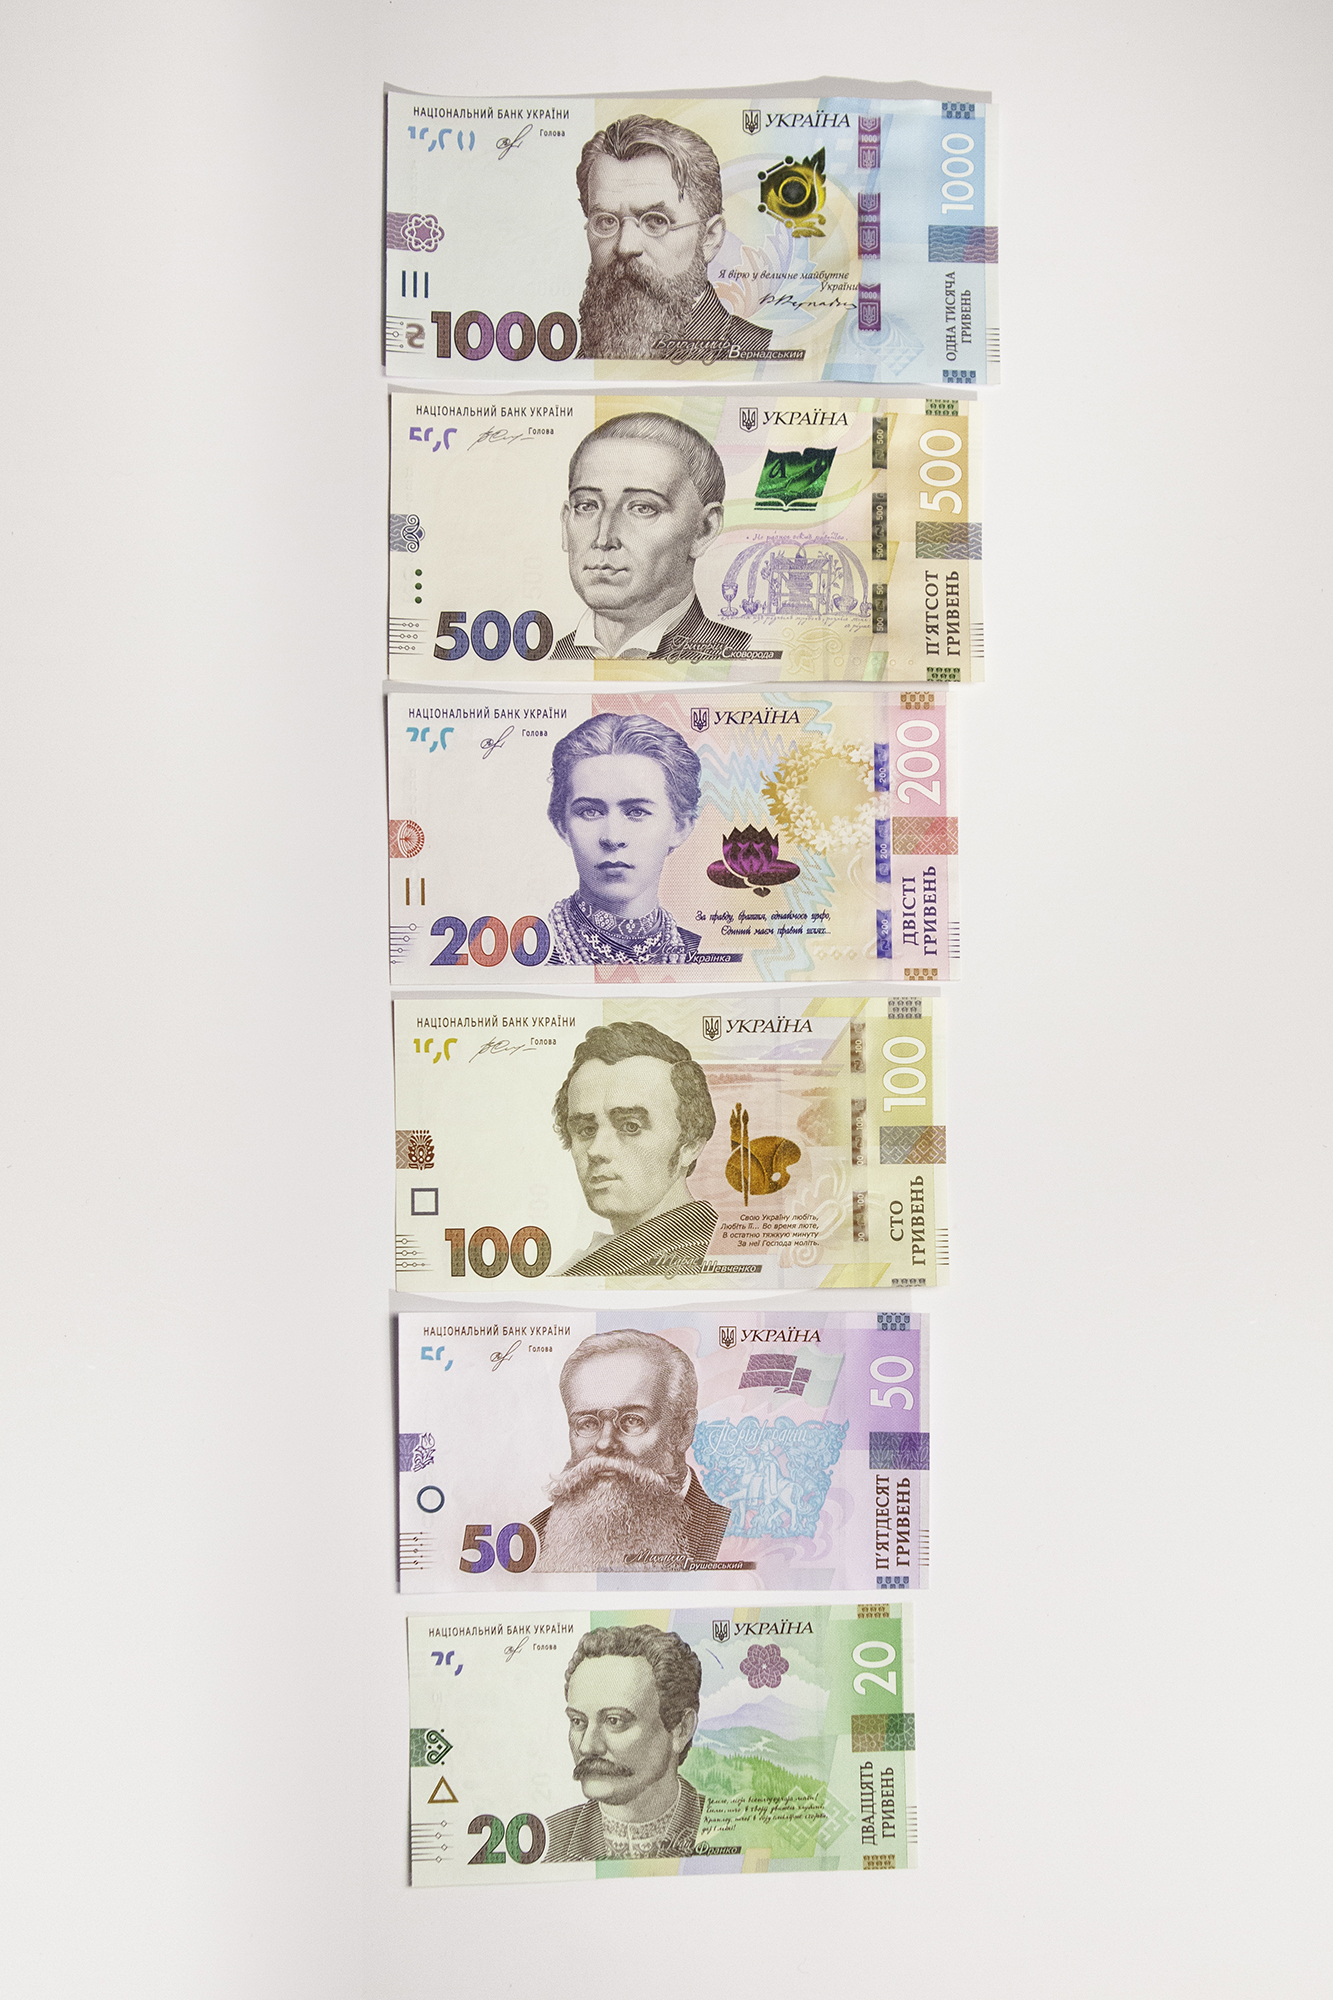bn_100: (388, 1001, 958, 1291)
bn_1000: (387, 92, 995, 387)
bn_20: (400, 1613, 925, 1871)
bn_200: (385, 700, 963, 987)
bn_50: (393, 1312, 946, 1594)
bn_500: (385, 396, 994, 684)
